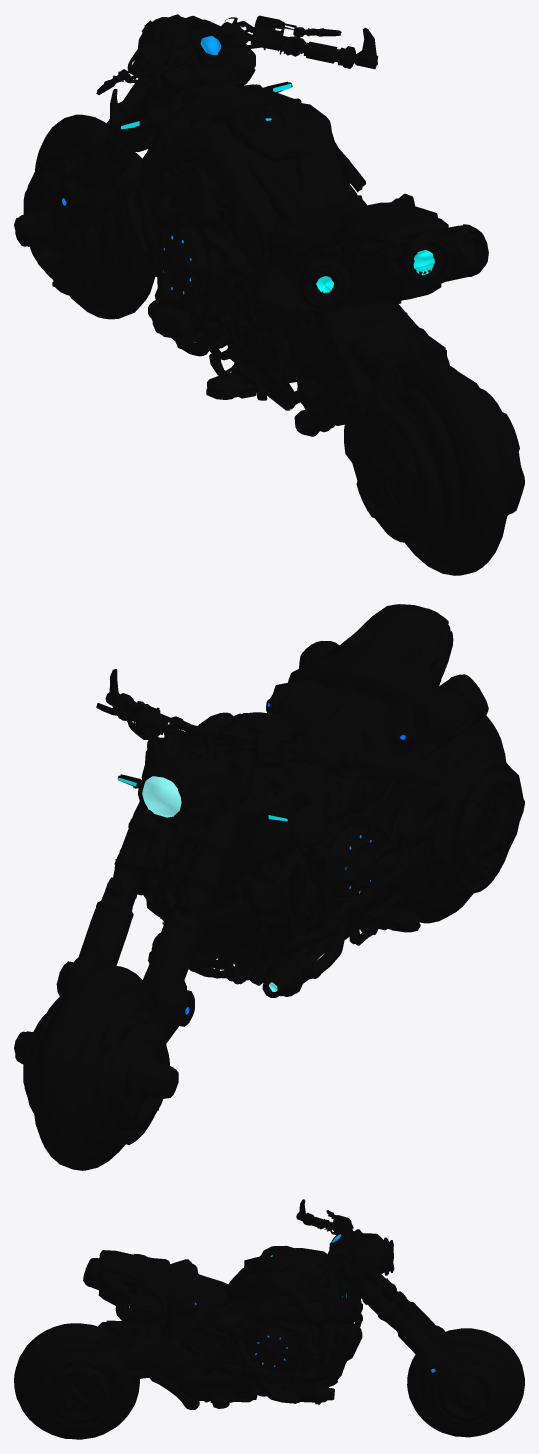
File: katana_sketch.glb
3 views of the same model, one above another, from view 1: azimuth 30°, elevation 25°; view 2: azimuth 150°, elevation 25°; view 3: azimuth 270°, elevation 25° (orthographic). The views are drawn at different scales.
Parts seen in each view (by area): view 1: Object_2, Object_9, Object_8; view 2: Object_2, Object_9, Object_8; view 3: Object_2, Object_9.
Part boxes in pixels (x1=…): Object_2: x1=14, y1=14, x2=524, y2=556; Object_9: x1=35, y1=114, x2=507, y2=575; Object_8: x1=62, y1=36, x2=434, y2=294; Object_2: x1=14, y1=604, x2=524, y2=1153; Object_9: x1=33, y1=715, x2=506, y2=1170; Object_8: x1=118, y1=703, x2=405, y2=1014; Object_2: x1=30, y1=1199, x2=512, y2=1431; Object_9: x1=14, y1=1323, x2=524, y2=1439.
Bounding box in the file's own units: 1.04 × 1.34 × 3.
4 materials, 4 textured.
